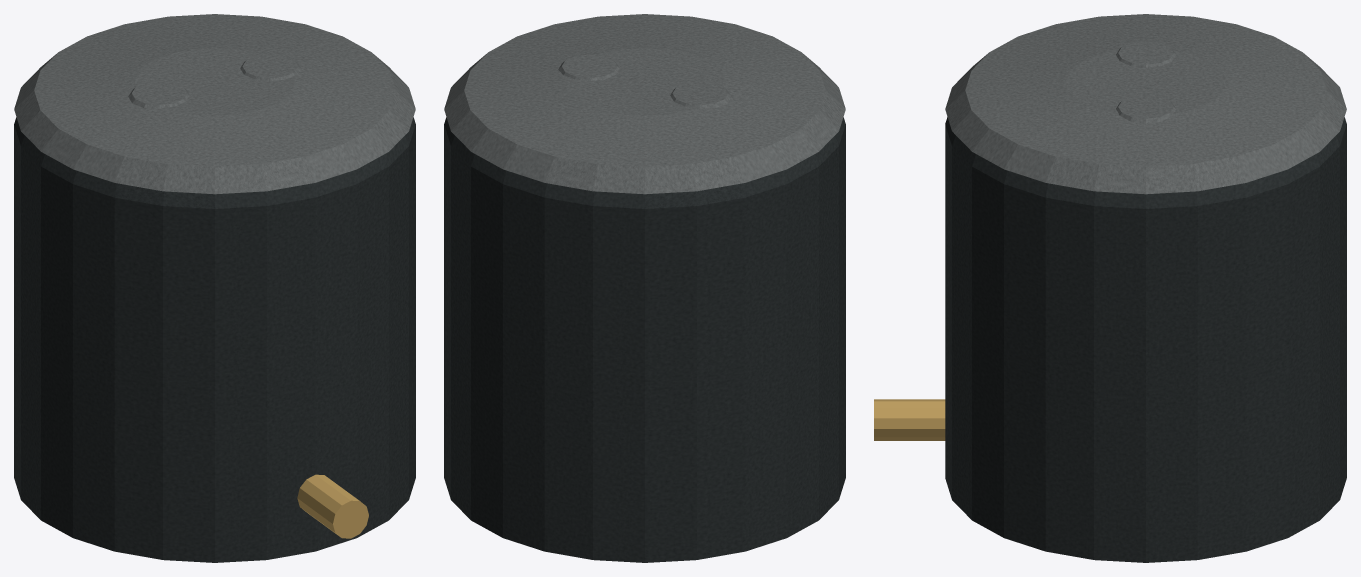
The model's file is TANKSEP2_lod2.glb.
3 views of the same model, side by side, from view 1: azimuth 30°, elevation 25°; view 2: azimuth 150°, elevation 25°; view 3: azimuth 270°, elevation 25° (orthographic).
Visible parts, largest first — view 1: TANKSEP2_LOD2; view 2: TANKSEP2_LOD2; view 3: TANKSEP2_LOD2.
Boxes of the visible parts, x1,y1,x2,y2 form: TANKSEP2_LOD2: (14,14,415,562); TANKSEP2_LOD2: (444,14,845,562); TANKSEP2_LOD2: (874,14,1346,562).
Bounding box in the file's own units: 3.46 × 3.78 × 4.07.
3 materials, 2 textured.
